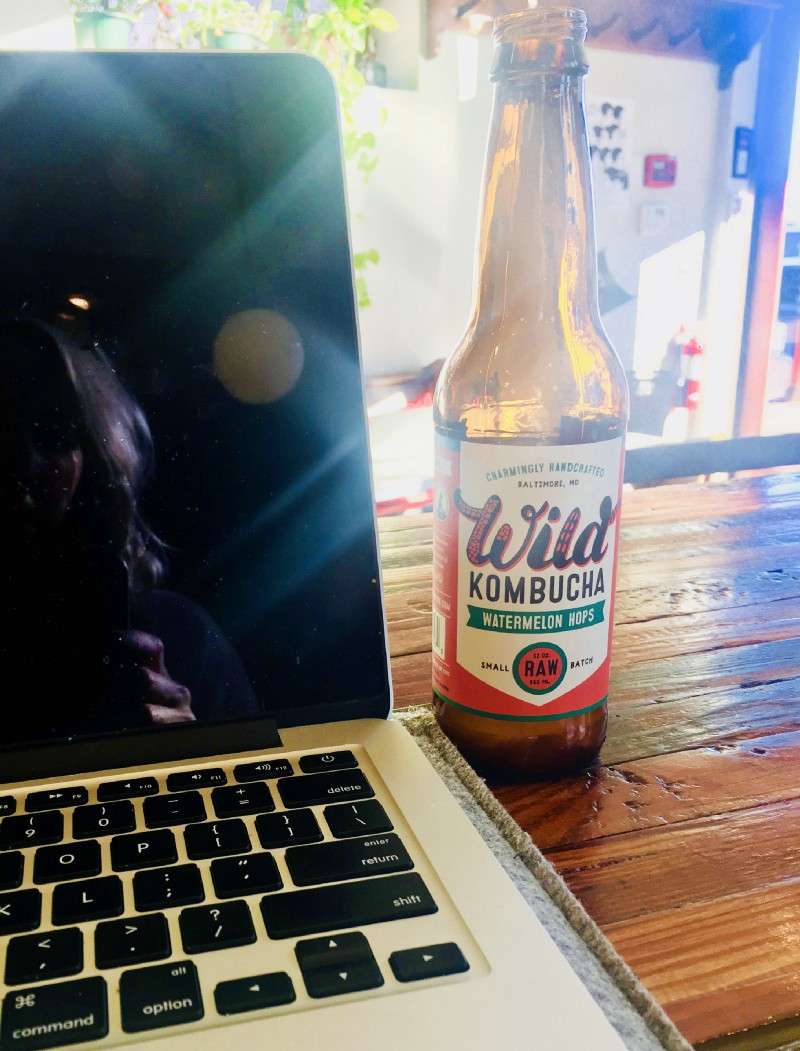Glass bottle: (377, 1, 675, 812)
